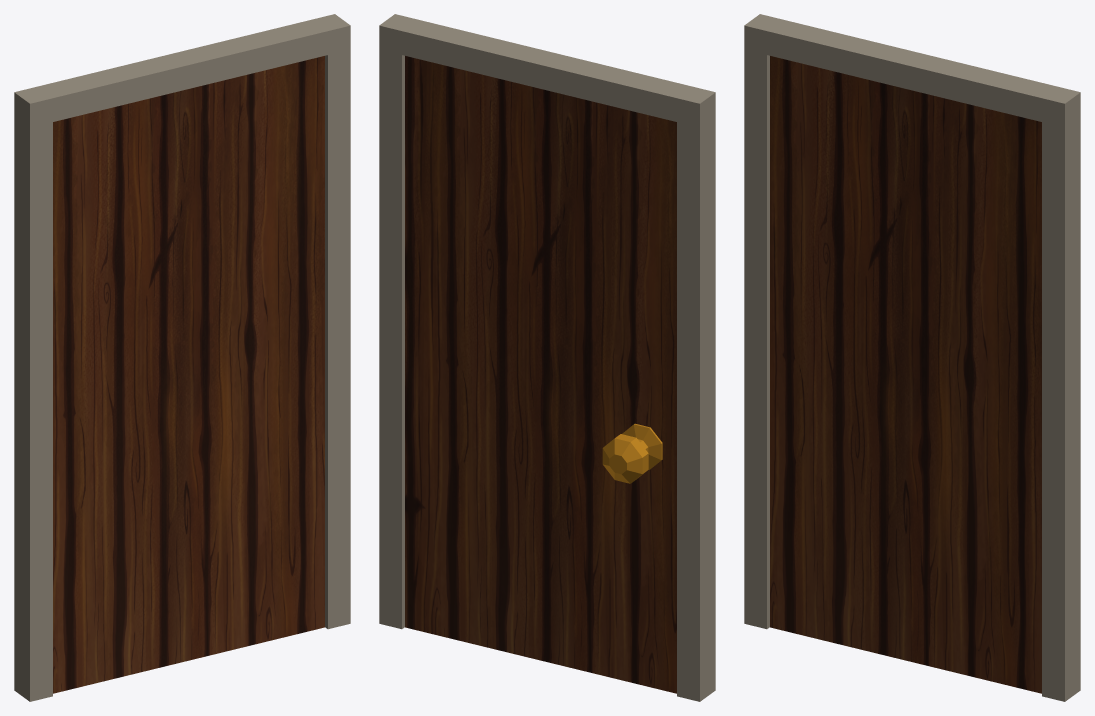
Rendered from door.glb.
3 views of the same model, side by side, from view 1: azimuth 30°, elevation 25°; view 2: azimuth 150°, elevation 25°; view 3: azimuth 330°, elevation 25° (orthographic).
Parts seen in each view (by area): view 1: door, door_jam; view 2: door, door_jam, door_knob; view 3: door, door_jam.
Boxes of the visible parts, box(x1,y1,x2,y2) form: door: box(53, 56, 324, 693); door_jam: box(14, 14, 350, 701); door: box(405, 56, 676, 693); door_jam: box(379, 14, 715, 701); door_knob: box(602, 423, 662, 483); door: box(770, 56, 1041, 693); door_jam: box(744, 14, 1080, 701).
Bounding box in the file's own units: 7.02 × 12.51 × 1.43.
3 materials, 1 textured.
